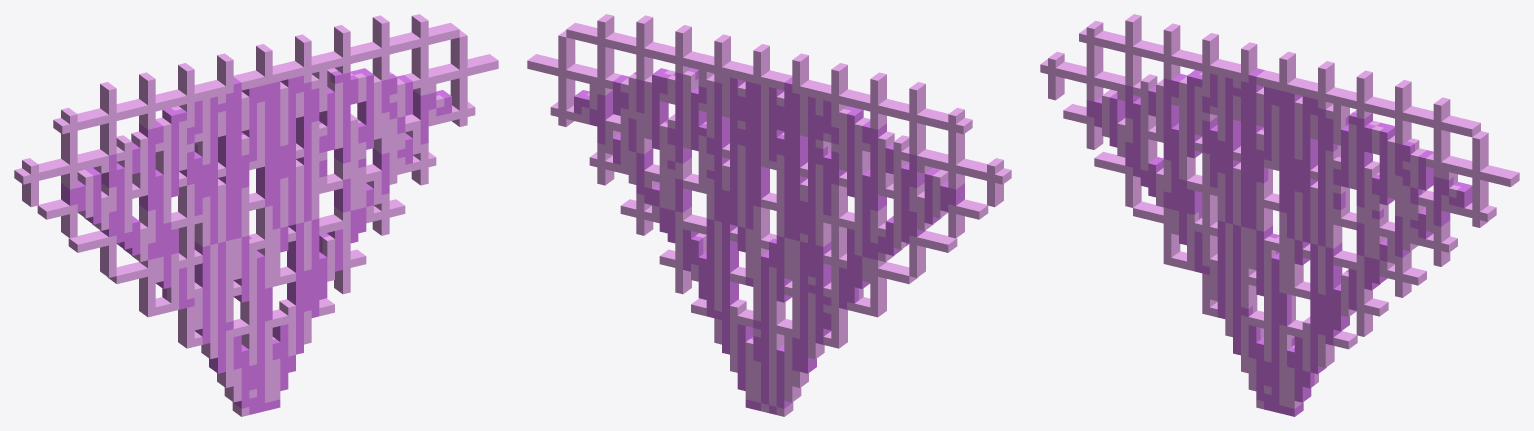
The model's file is E03_Coral_Fan.glb.
3 views of the same model, side by side, from view 1: azimuth 30°, elevation 25°; view 2: azimuth 150°, elevation 25°; view 3: azimuth 330°, elevation 25° (orthographic).
Parts seen in each view (by area): view 1: E03_Body; view 2: E03_Body; view 3: E03_Body.
Part boxes in pixels (bbox=[...]): E03_Body: bbox=[14, 14, 498, 416]; E03_Body: bbox=[527, 14, 1011, 416]; E03_Body: bbox=[1040, 14, 1519, 416].
Bounding box in the file's own units: 2.75 × 1.98 × 0.09.
